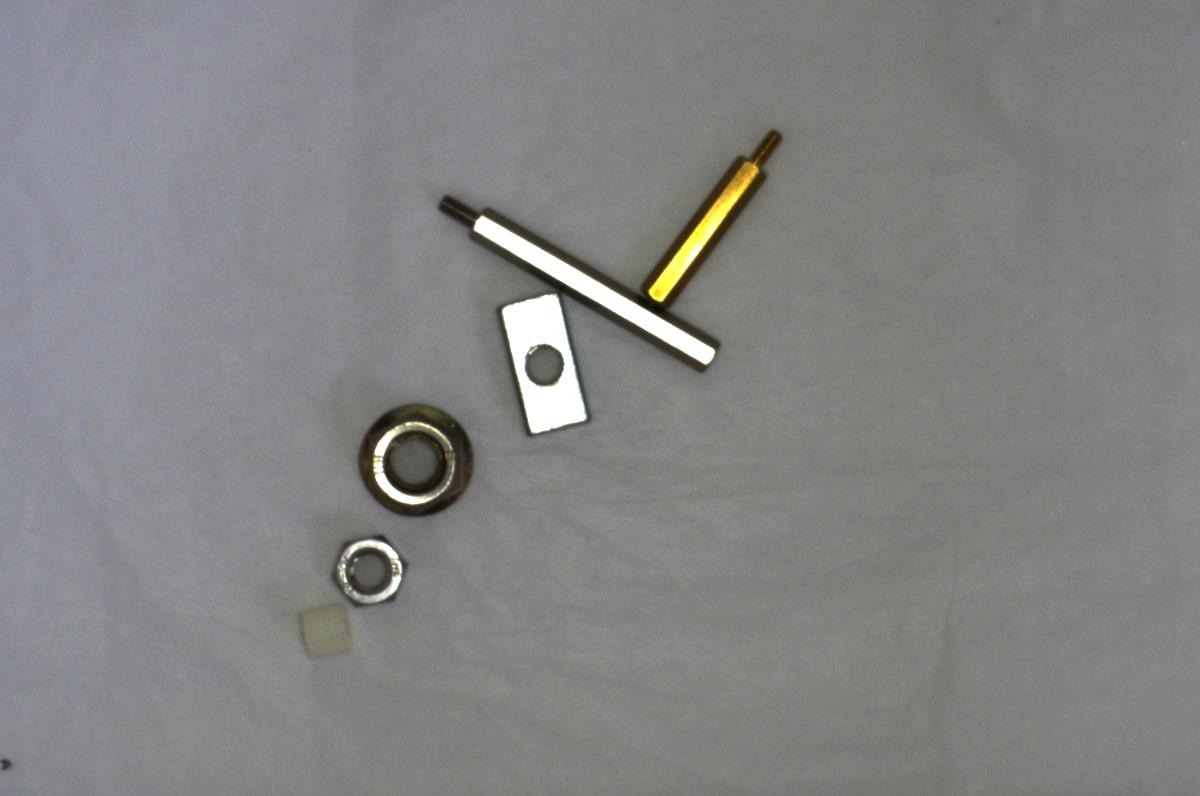Flange nut: (350, 395, 486, 526)
Hexagon nut: (319, 526, 410, 607)
Hexagon pillar: (632, 121, 793, 308)
Hexagonal steel column: (433, 192, 734, 378)
Plastic cushion pillar: (290, 593, 367, 670)
Rectangular nut: (490, 281, 590, 442)
